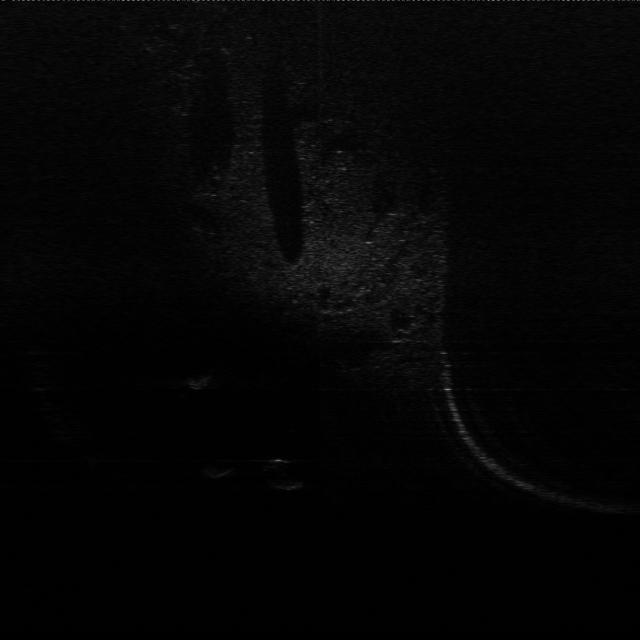cube: (202, 456, 236, 478)
square cage: (183, 371, 213, 392)
tyre: (258, 453, 308, 493)
